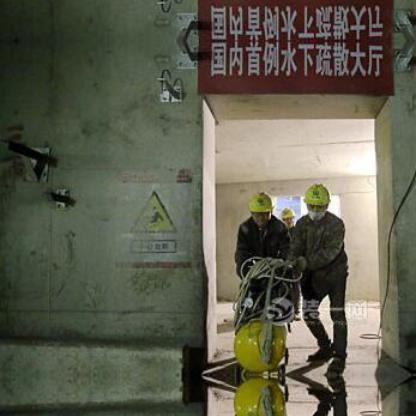helmet: (300, 180, 332, 212), (245, 189, 277, 215)
